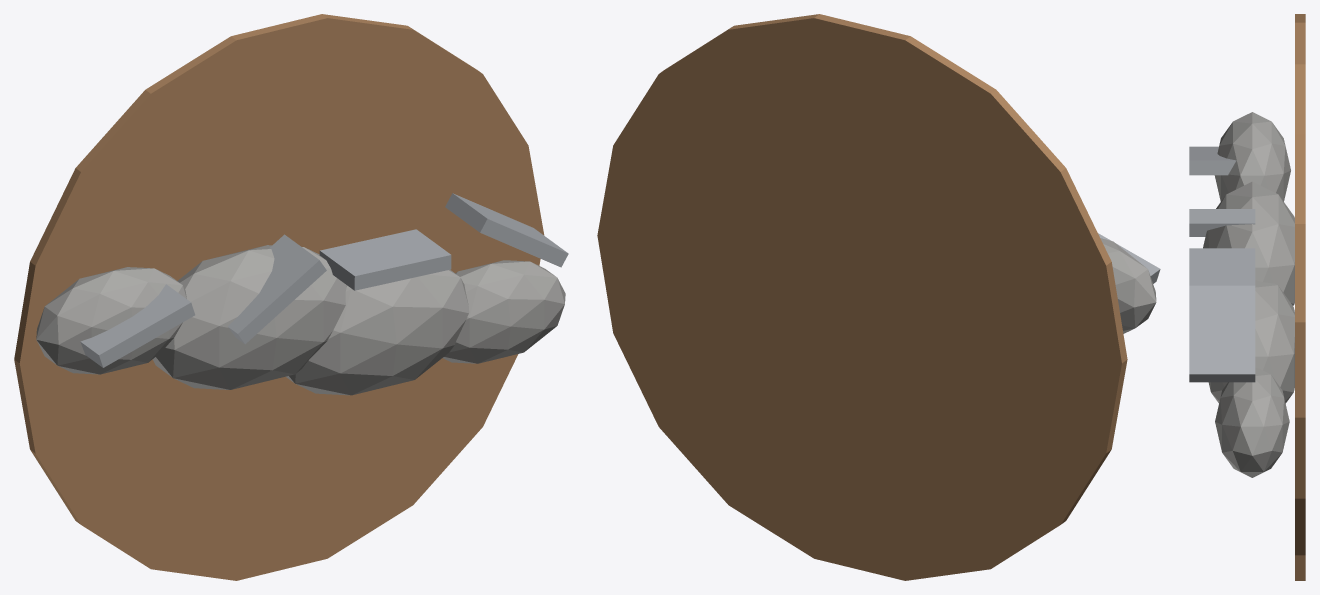
The model's file is 02_local_prop_cluster.glb.
The picture shows the model from 3 angles, left to right: view 1: azimuth 30°, elevation 25°; view 2: azimuth 150°, elevation 25°; view 3: azimuth 270°, elevation 25°; orthographic projection. The views are drawn at different scales.
Visible parts, largest first — view 1: scatter_base, scrap_rock_1, scrap_rock_2, scrap_rock_0, scrap_rock_3, scrap_plate_2, scrap_plate_1, scrap_plate_0, scrap_plate_3; view 2: scatter_base, scrap_rock_0; view 3: scrap_plate_3, scatter_base, scrap_rock_3, scrap_rock_1, scrap_rock_0, scrap_rock_2, scrap_plate_2, scrap_plate_1, scrap_plate_0.
Part boxes in pixels (x1,y1,x2,y2): scatter_base: (14,14,544,580); scrap_rock_1: (152,245,346,389); scrap_rock_2: (286,269,469,395); scrap_rock_0: (36,267,186,374); scrap_rock_3: (443,260,565,363); scrap_plate_2: (319,229,451,290); scrap_plate_1: (228,234,326,344); scrap_plate_0: (80,284,195,367); scrap_plate_3: (445,193,568,267); scatter_base: (597,14,1127,580); scrap_rock_0: (1100,238,1156,333); scrap_plate_3: (1189,285,1255,382); scatter_base: (1295,14,1305,580); scrap_rock_3: (1215,367,1289,477); scrap_rock_1: (1203,181,1294,305); scrap_rock_0: (1214,112,1290,201); scrap_rock_2: (1208,280,1294,403); scrap_plate_2: (1189,248,1255,285); scrap_plate_1: (1189,209,1255,236); scrap_plate_0: (1189,146,1236,175).
Bounding box in the file's own units: 1.92 × 1.87 × 0.3875.
